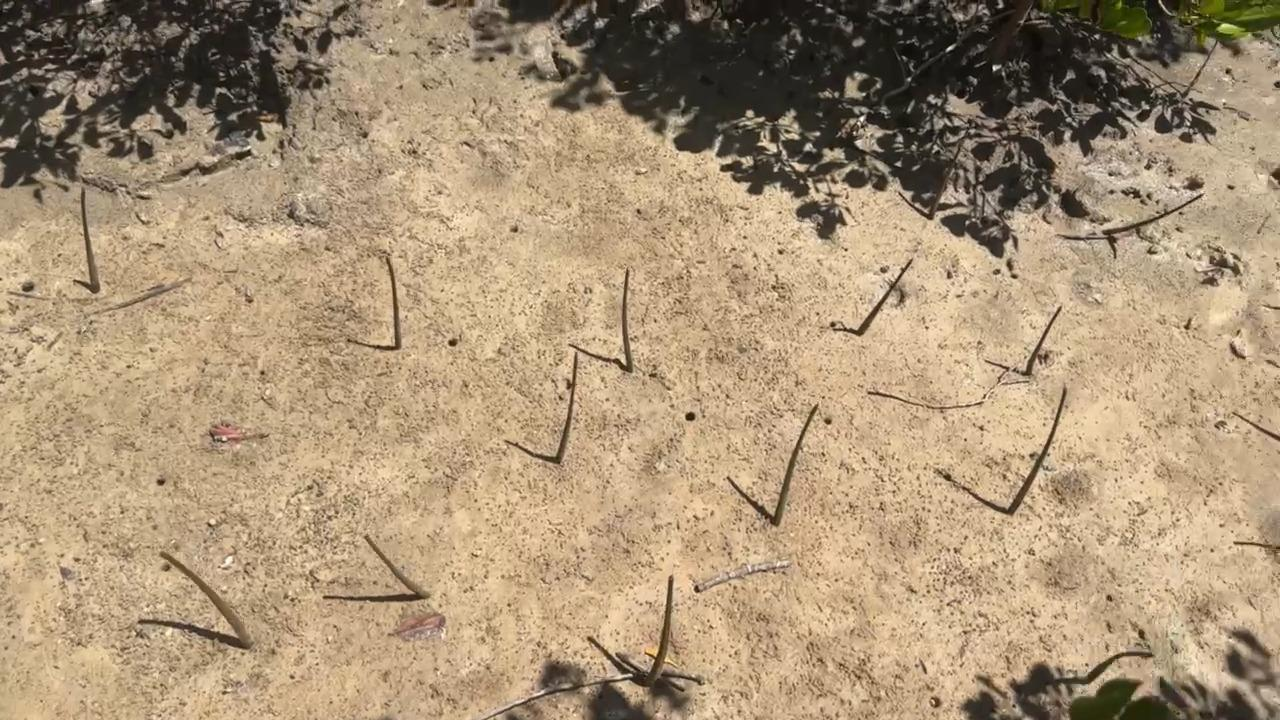Tree: (159, 549, 254, 651), (1005, 385, 1069, 517), (770, 402, 821, 528), (902, 145, 964, 223), (855, 257, 914, 338), (362, 532, 432, 600), (1102, 192, 1206, 236), (642, 573, 675, 688), (1023, 304, 1065, 376), (1083, 649, 1156, 685), (555, 351, 578, 464), (1182, 38, 1219, 97), (81, 186, 101, 293), (384, 255, 404, 350), (621, 267, 636, 374)
